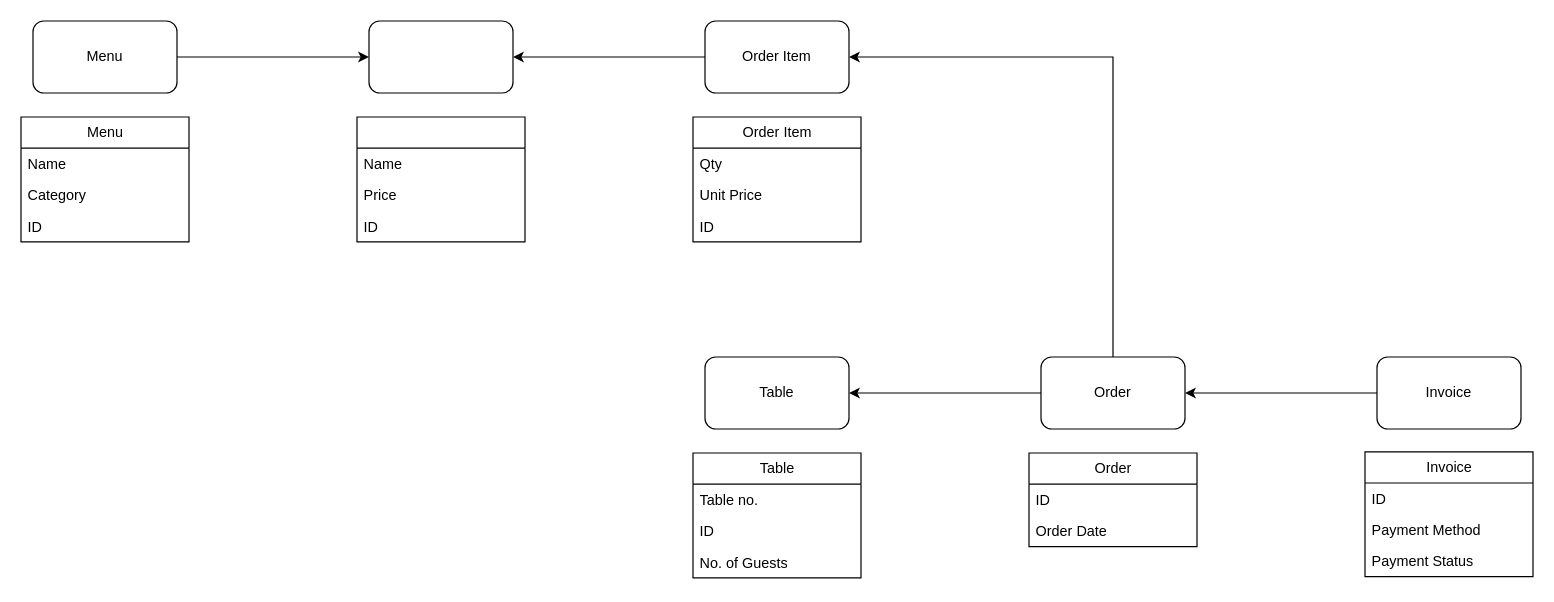
The diagram is 1554 pixels wide and 602 high, and some of its shapes have lost their labels. Each missing label, with the box of its shape:
Food: (356, 116, 525, 242)
Food Item: (368, 20, 513, 93)
